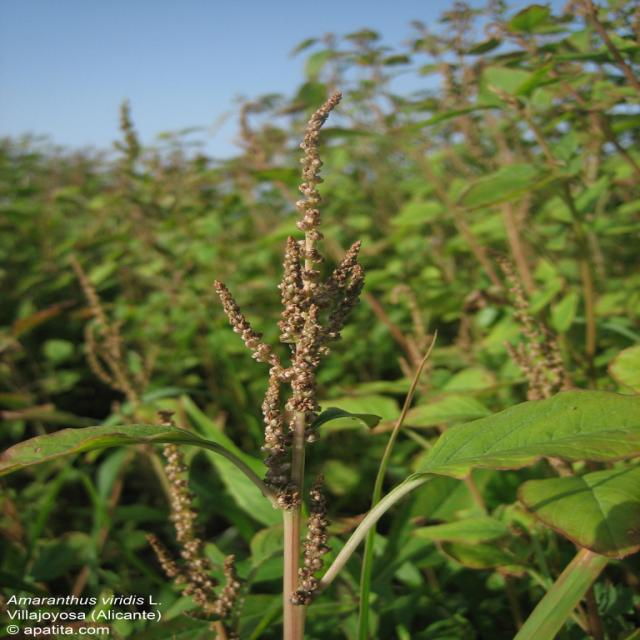Medicinal-Arive Dantu: (0, 89, 536, 581)
